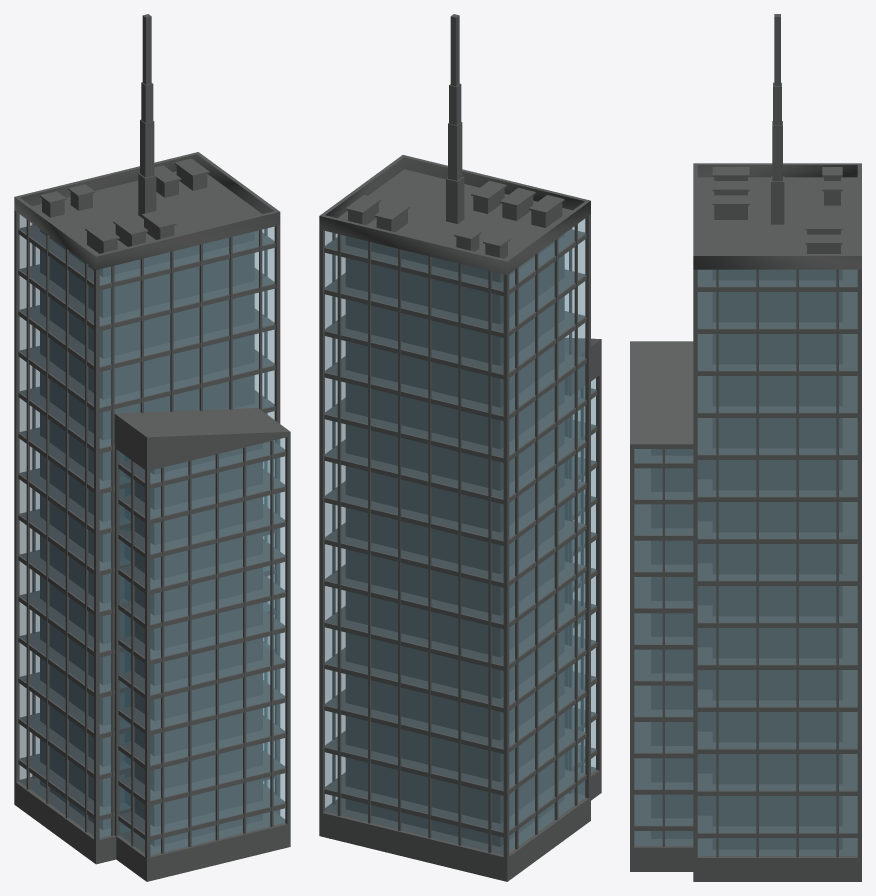
Rendered from Skyscrapers.glb.
3 views of the same model, side by side, from view 1: azimuth 30°, elevation 25°; view 2: azimuth 150°, elevation 25°; view 3: azimuth 270°, elevation 25° (orthographic). The views are drawn at different scales.
Parts seen in each view (by area): view 1: Root; view 2: Root; view 3: Root.
Boxes of the visible parts, x1,y1,x2,y2 form: Root: (14, 14, 290, 881); Root: (319, 14, 601, 881); Root: (630, 14, 861, 881).
Size of the model in its own units: 6.5 by 26.84 by 6.88.
